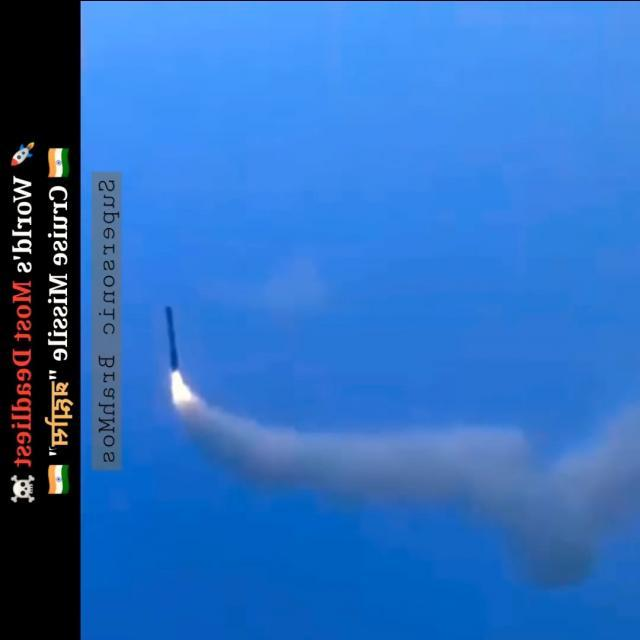Missile: (150, 301, 186, 387)
